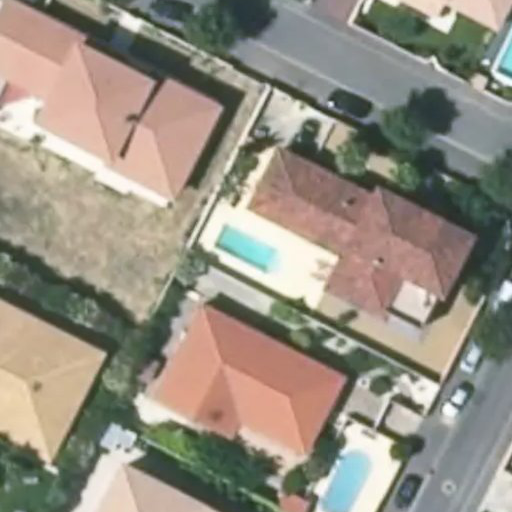pool: (220, 240, 297, 247)
